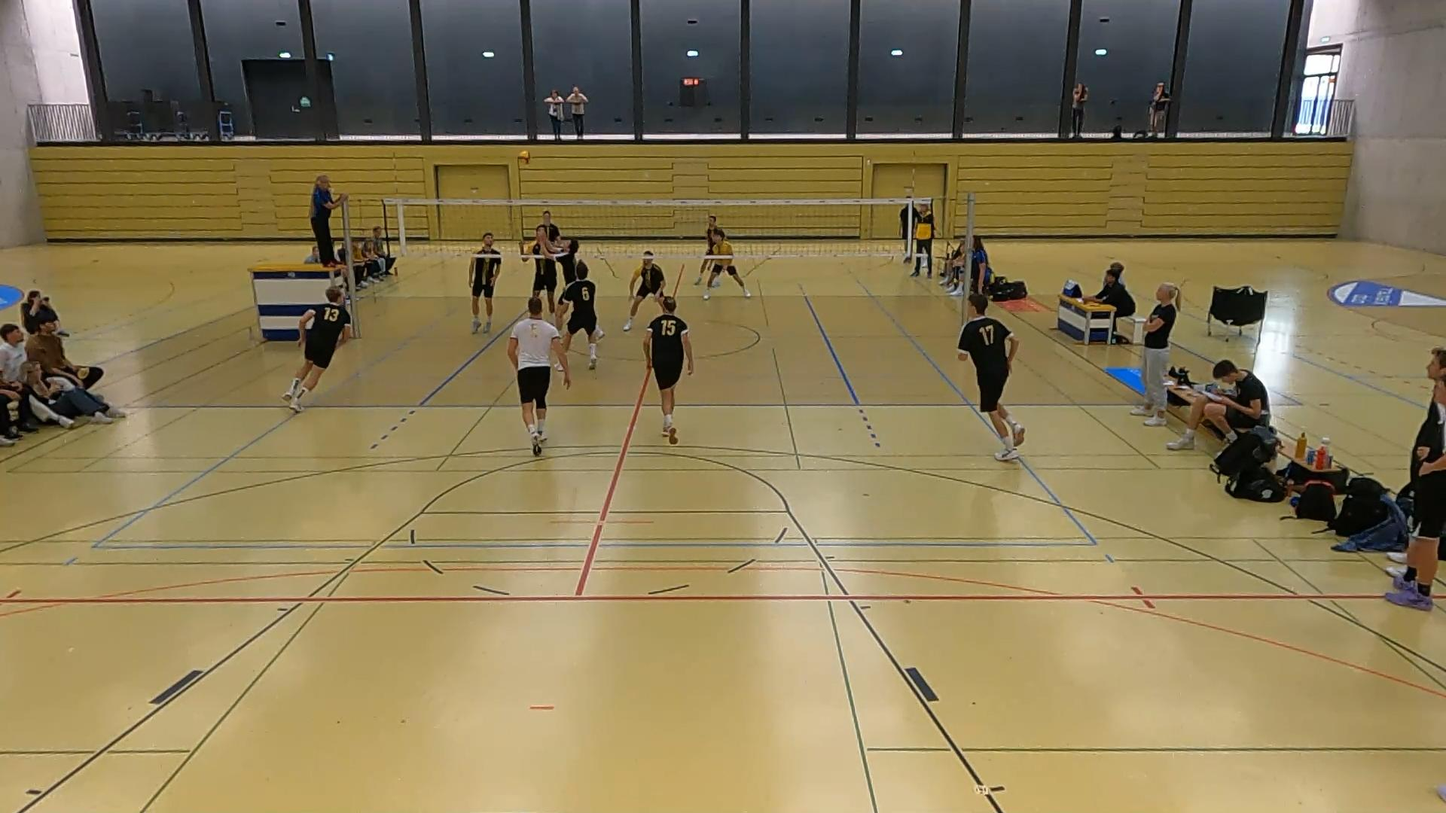Player: (958, 293, 1024, 461), (508, 296, 570, 455), (282, 288, 352, 412), (643, 296, 693, 443), (556, 262, 602, 369), (623, 251, 665, 331), (469, 232, 502, 333), (703, 229, 750, 299), (523, 224, 559, 313), (539, 210, 560, 244), (705, 215, 718, 254)
Set: (532, 222, 590, 340)
ball: (516, 148, 531, 168)
